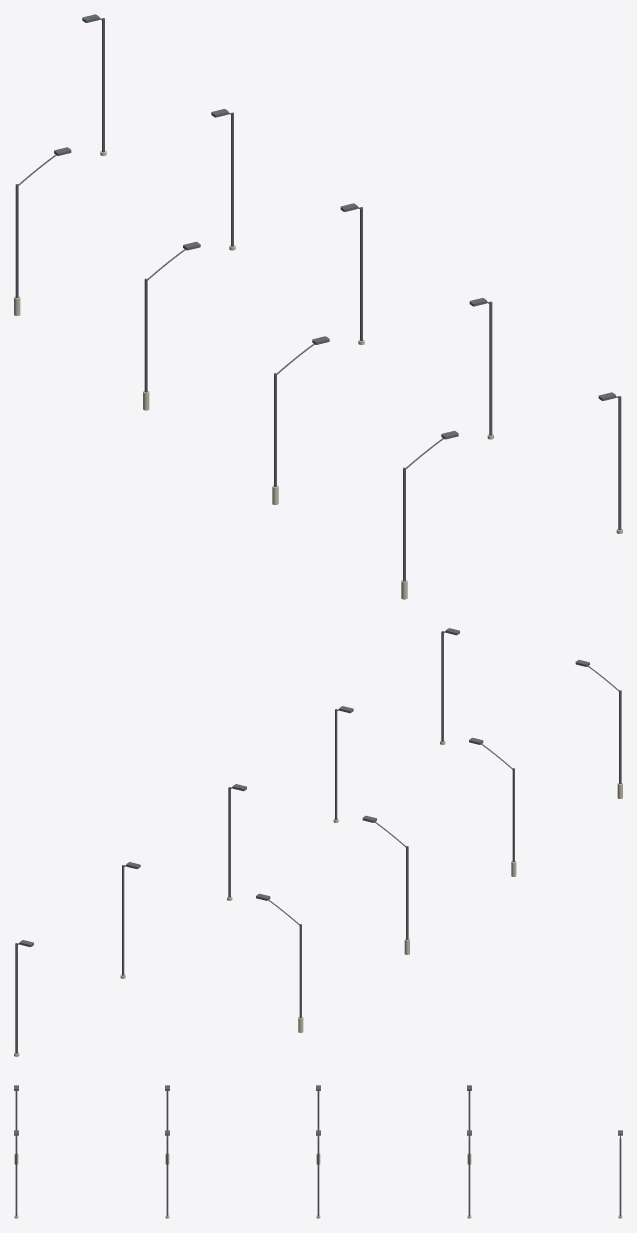
3 renders of one model, top to bottom at view 1: azimuth 30°, elevation 25°; view 2: azimuth 150°, elevation 25°; view 3: azimuth 270°, elevation 25°, orthographic. The views are drawn at different scales.
Parts seen in each view (by area): view 1: buildings_s_-3_0_Dark_Metal; view 2: buildings_s_-3_0_Dark_Metal; view 3: buildings_s_-3_0_Dark_Metal, buildings_s_-3_0_Warm_Limestone.
Part boxes in pixels (x1,y1,x2,y2): buildings_s_-3_0_Dark_Metal: (15,14,621,581); buildings_s_-3_0_Dark_Metal: (15,628,621,1053); buildings_s_-3_0_Dark_Metal: (14,1085,622,1216); buildings_s_-3_0_Warm_Limestone: (14,1153,622,1218).
Bounding box in the file's own units: 26.67 × 17.75 × 109.
